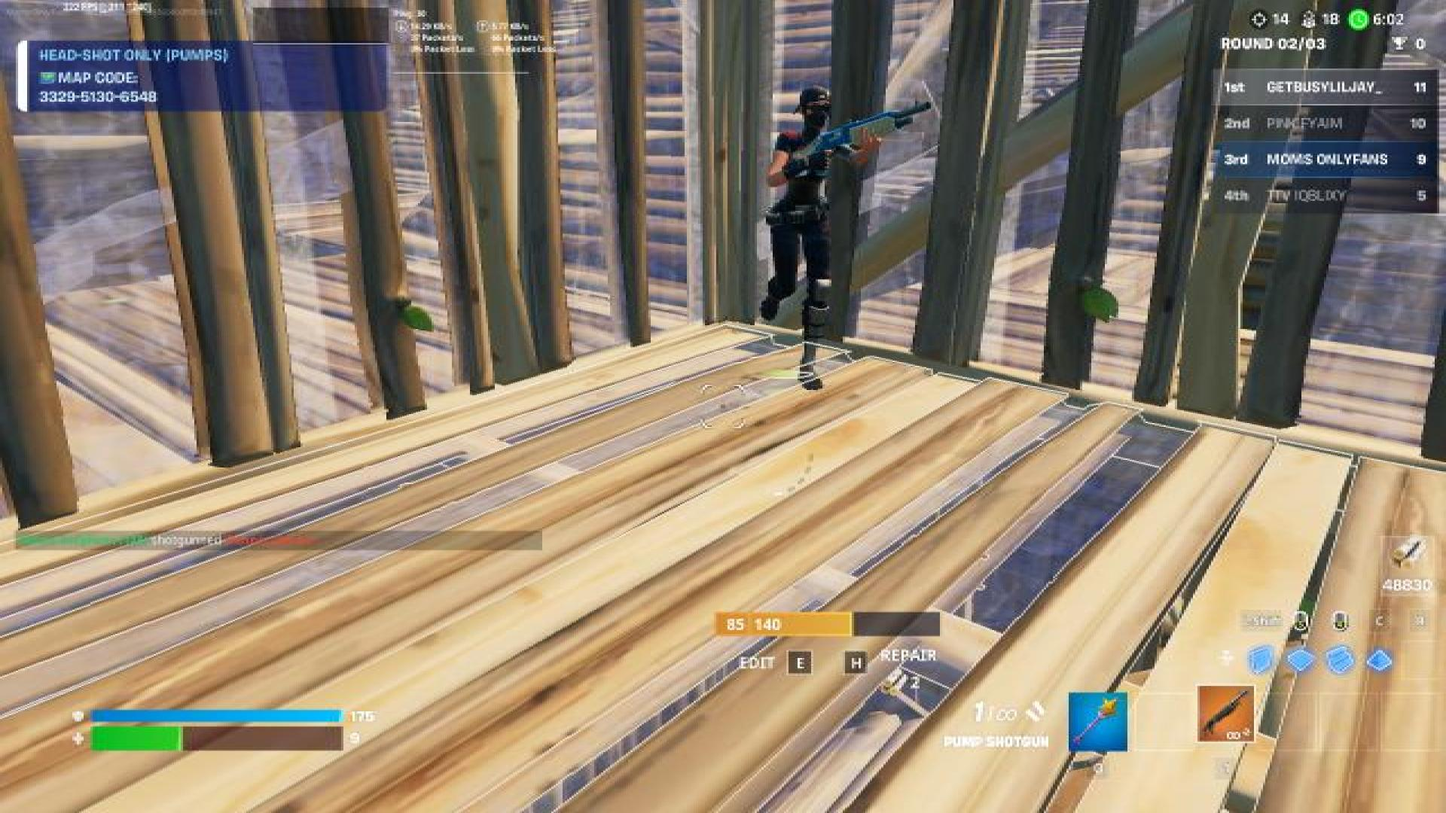player: (746, 78, 870, 388)
